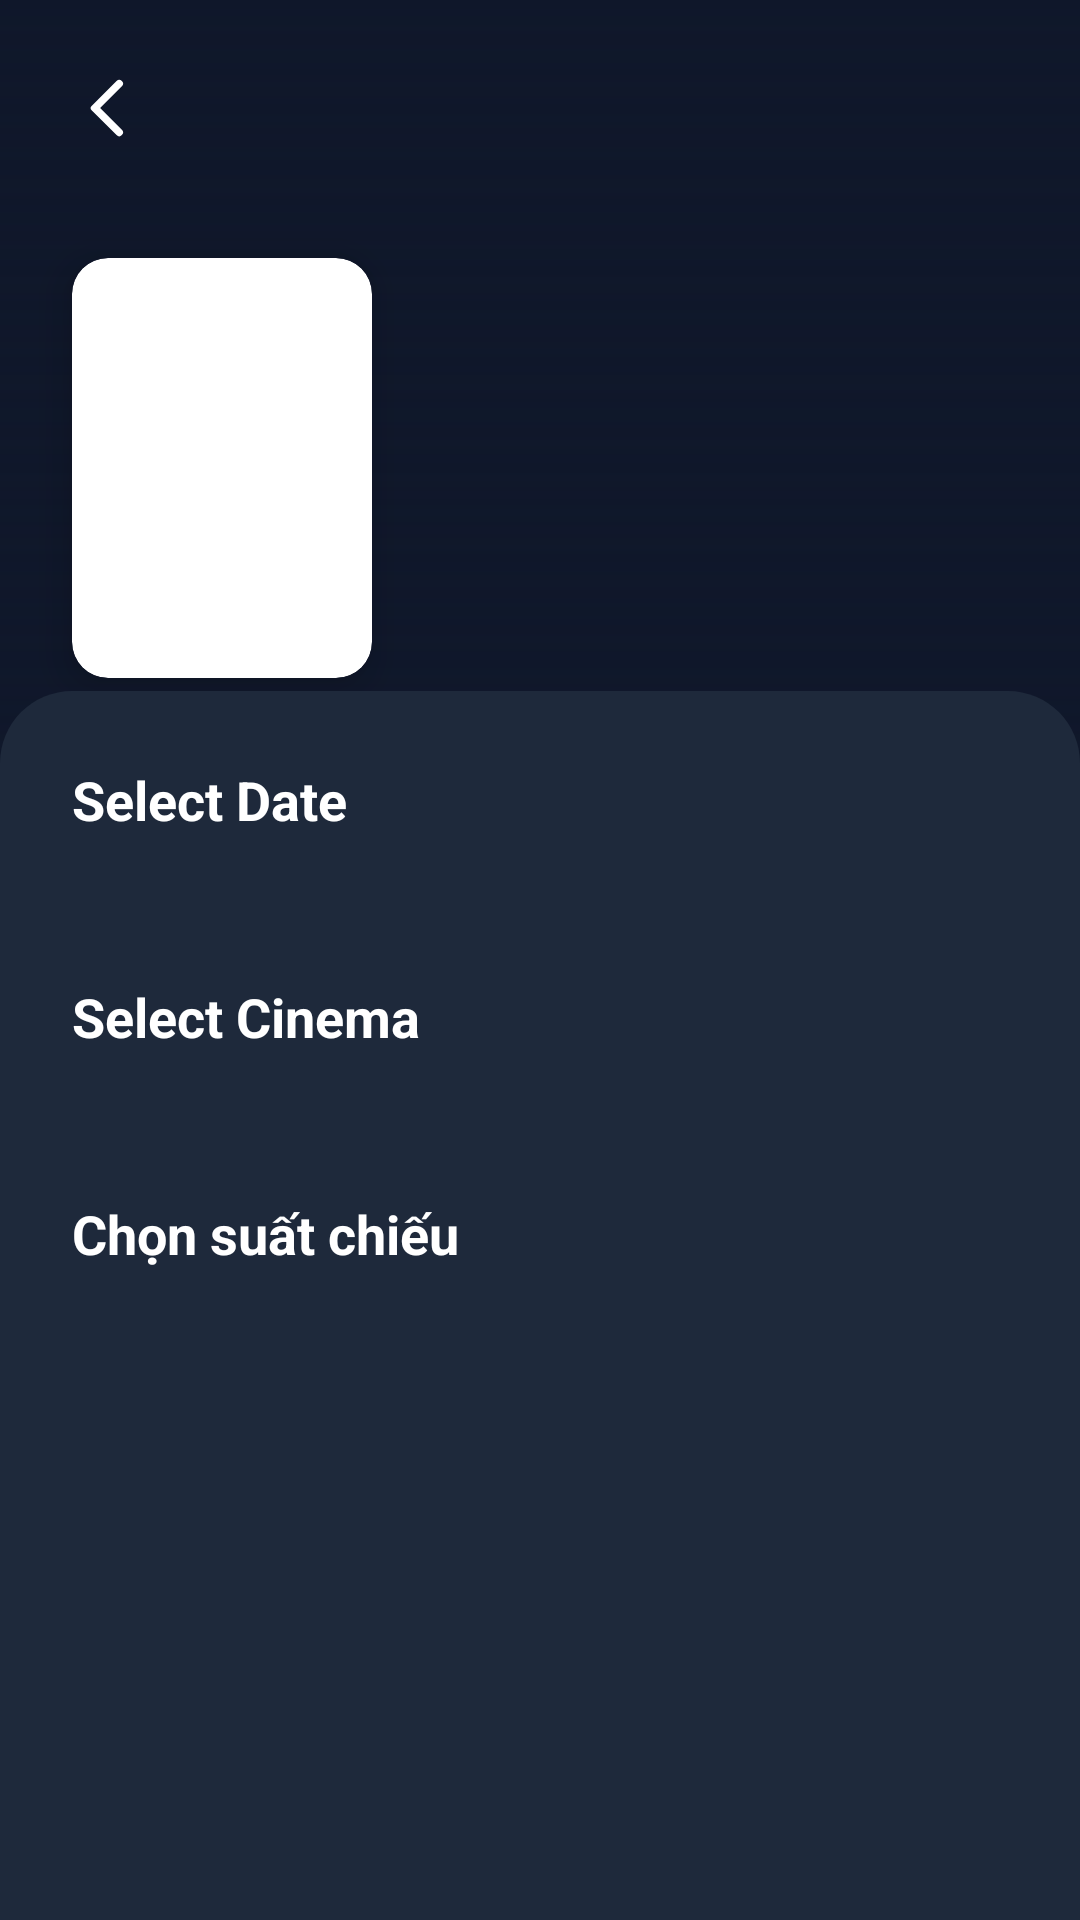

Where to tap for icons on this 1080*1920 app screen, as (x,y):
arrow back: (107,108)
